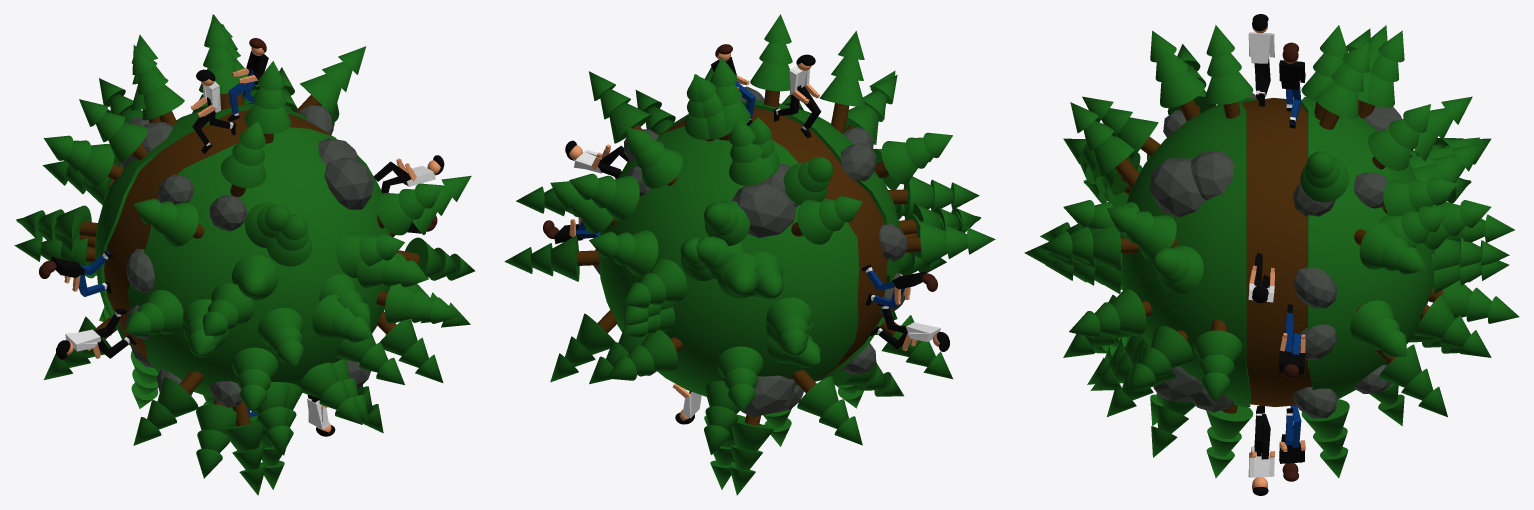
The model's file is Walk-model.glb.
3 views of the same model, side by side, from view 1: azimuth 30°, elevation 25°; view 2: azimuth 150°, elevation 25°; view 3: azimuth 270°, elevation 25° (orthographic). The views are drawn at different scales.
Visible parts, largest first — view 1: Cone.003, Sphere.006, Cone.001, Icosphere, Icosphere.001, Sphere.003, Cube.003, Sphere.005, Cube.018, Sphere.002, Sphere.001; view 2: Cone.003, Sphere.006, Cone.001, Icosphere.001, Icosphere, Sphere.005, Sphere.003, Cube.003, Sphere.002, Cube.002, Cube.018, Sphere.001; view 3: Sphere.006, Cone.001, Cone.003, Icosphere.001, Icosphere, Sphere.001, Sphere.005, Cube.018, Cube.001, Cube.002, Sphere.002.
Part boxes in pixels (x1,y1,x2,y2): Cone.003: [16, 18, 443, 495]; Sphere.006: [95, 103, 393, 398]; Cone.001: [14, 14, 475, 478]; Icosphere: [126, 138, 373, 406]; Icosphere.001: [120, 103, 333, 367]; Sphere.003: [56, 308, 136, 359]; Cube.003: [39, 250, 112, 296]; Sphere.005: [190, 69, 236, 153]; Cube.018: [227, 38, 268, 121]; Sphere.002: [374, 155, 444, 193]; Sphere.001: [307, 394, 335, 436]; Cone.003: [550, 14, 980, 495]; Sphere.006: [598, 100, 900, 396]; Cone.001: [504, 70, 995, 396]; Icosphere.001: [593, 129, 803, 416]; Icosphere: [740, 86, 907, 374]; Sphere.005: [773, 54, 821, 137]; Sphere.003: [869, 303, 949, 351]; Cube.003: [861, 264, 937, 308]; Sphere.002: [565, 140, 629, 178]; Cube.002: [543, 217, 600, 244]; Cube.018: [711, 44, 755, 125]; Sphere.001: [672, 383, 701, 424]; Sphere.006: [1121, 97, 1433, 407]; Cone.001: [1024, 25, 1519, 457]; Cone.003: [1045, 25, 1509, 478]; Icosphere.001: [1292, 106, 1401, 418]; Icosphere: [1149, 93, 1256, 412]; Sphere.001: [1248, 405, 1274, 495]; Sphere.005: [1248, 14, 1274, 106]; Cube.018: [1279, 42, 1305, 128]; Cube.001: [1279, 405, 1305, 481]; Cube.002: [1279, 304, 1305, 379]; Sphere.002: [1248, 253, 1274, 303].
Bounding box in the file's own units: 8.53 × 8.85 × 8.76.
